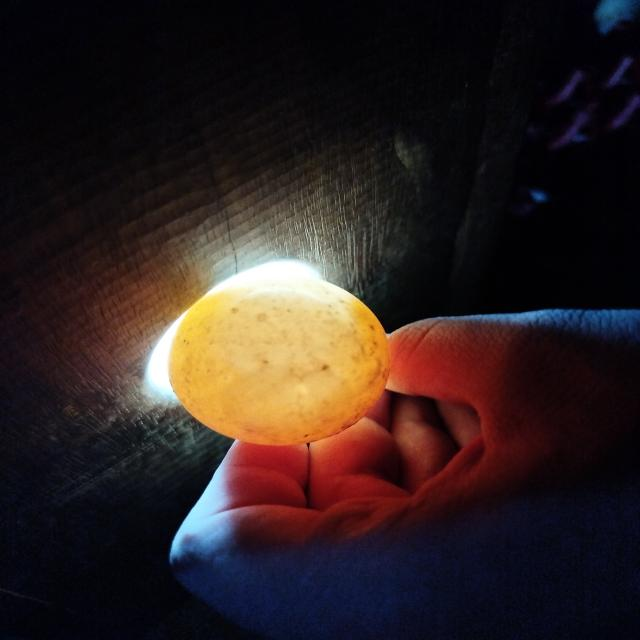Camara de Ar: (168, 275, 390, 445)
